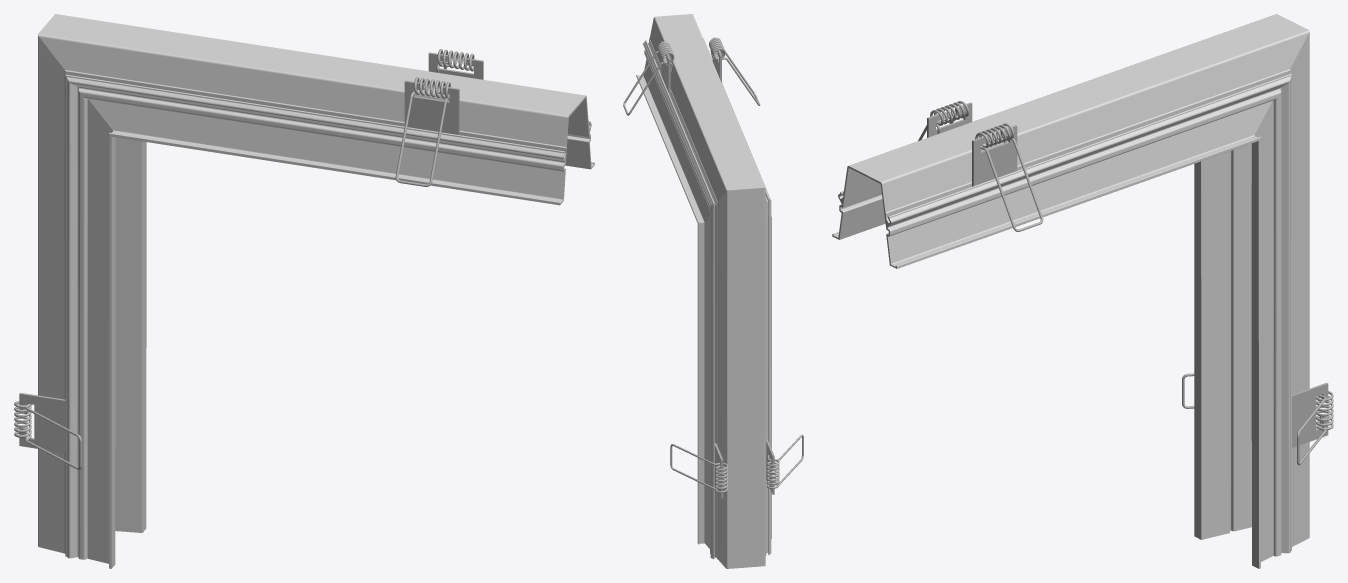
The model's file is Fit30Embutido-curva-teto-parede.glb.
3 renders of one model, left to right at view 1: azimuth 30°, elevation 25°; view 2: azimuth 150°, elevation 25°; view 3: azimuth 270°, elevation 25°, orthographic. The views are drawn at different scales.
Visible parts, largest first — view 1: Geom3D (×6); view 2: Geom3D (×9); view 3: Geom3D (×7).
Boxes of the visible parts, x1,y1,x2,y2 form: Geom3D (×6): (14,14,594,568); Geom3D (×9): (623,14,803,568); Geom3D (×7): (832,14,1333,568).
Size of what is drawn, in the model's own units: 0.1973 by 0.2593 by 0.2241.
Materials: 2 (1 with a texture image).
